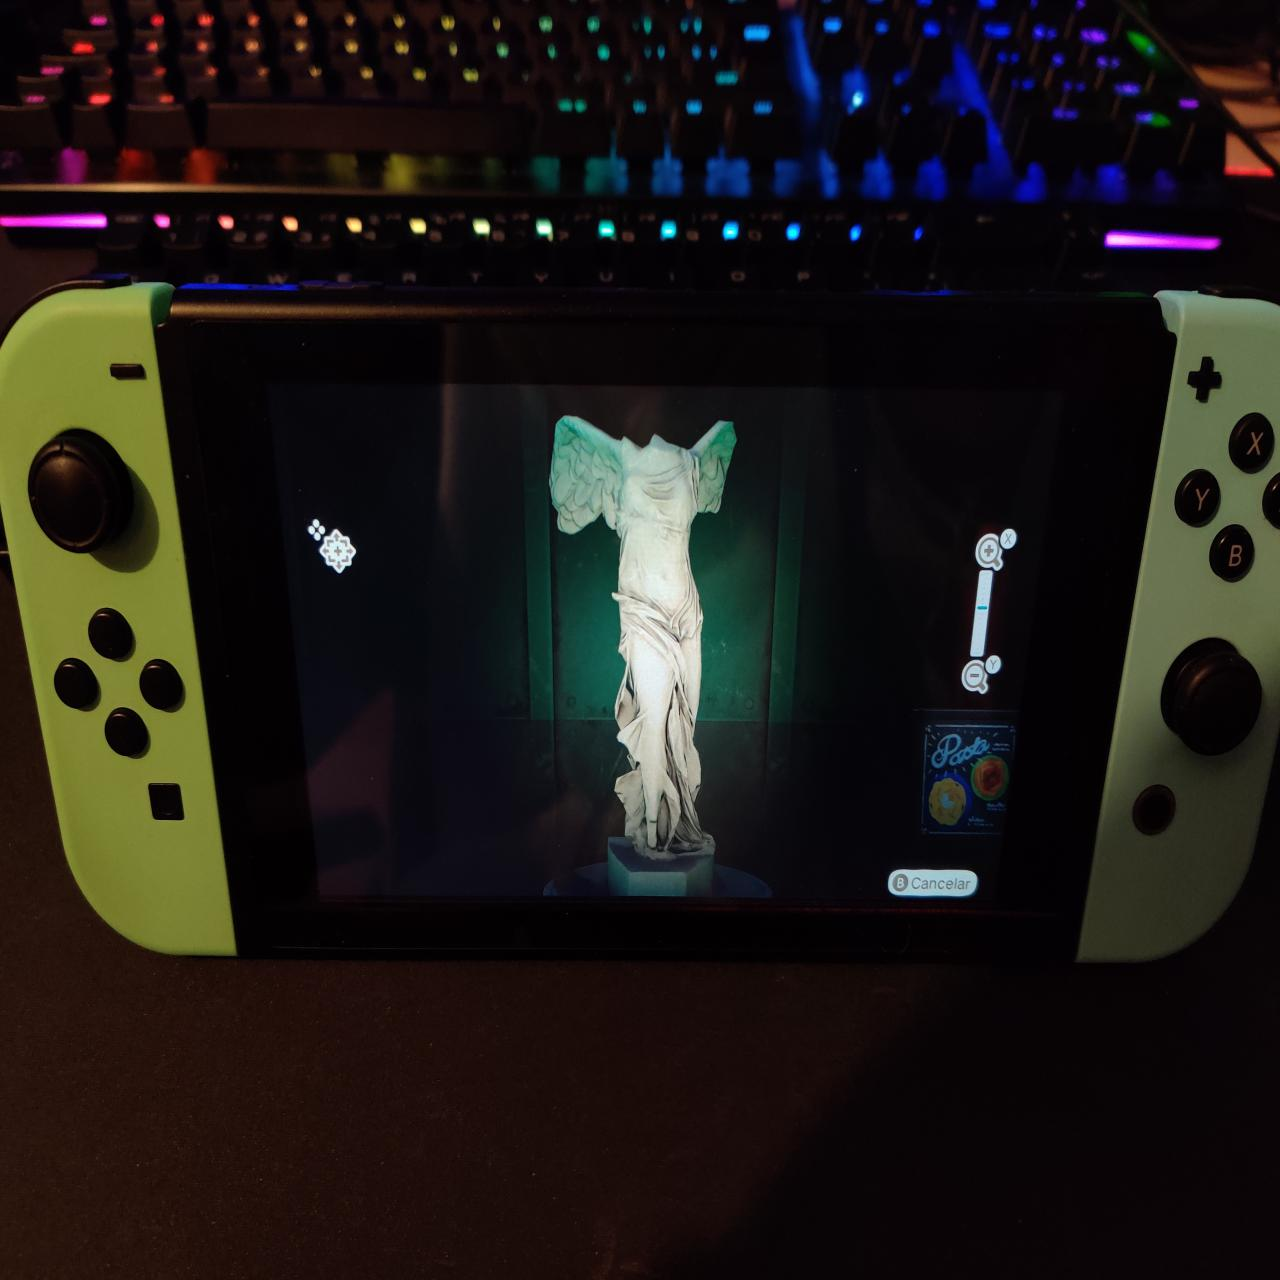Samothrace: (547, 411, 745, 867)
